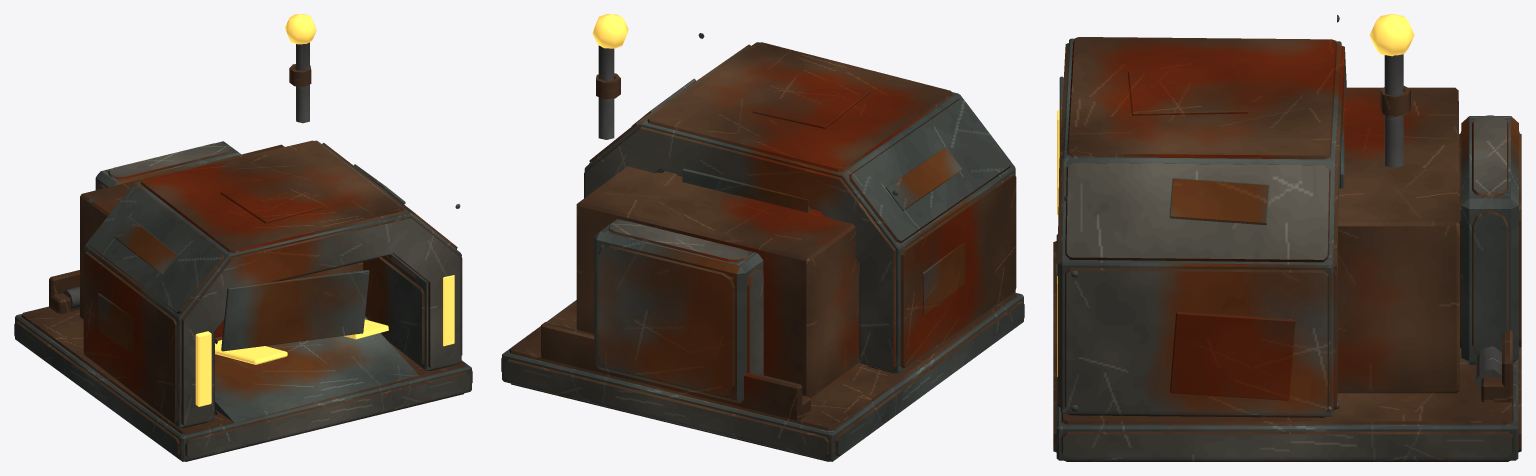
Rendered from R4X_GroundDroneDeployer.glb.
The picture shows the model from 3 angles, left to right: view 1: azimuth 30°, elevation 25°; view 2: azimuth 150°, elevation 25°; view 3: azimuth 270°, elevation 25°; orthographic projection. The views are drawn at different scales.
Visible parts, largest first — view 1: R4X_GroundDroneDeployer_Body; view 2: R4X_GroundDroneDeployer_Body; view 3: R4X_GroundDroneDeployer_Body.
Part boxes in pixels (left/top/right/bottom): R4X_GroundDroneDeployer_Body: left=14, top=14, right=472, bottom=461; R4X_GroundDroneDeployer_Body: left=501, top=14, right=1024, bottom=461; R4X_GroundDroneDeployer_Body: left=1053, top=14, right=1521, bottom=461.
Size of the model in its own units: 0.52 by 0.51 by 0.52.
5 materials, 4 textured.
